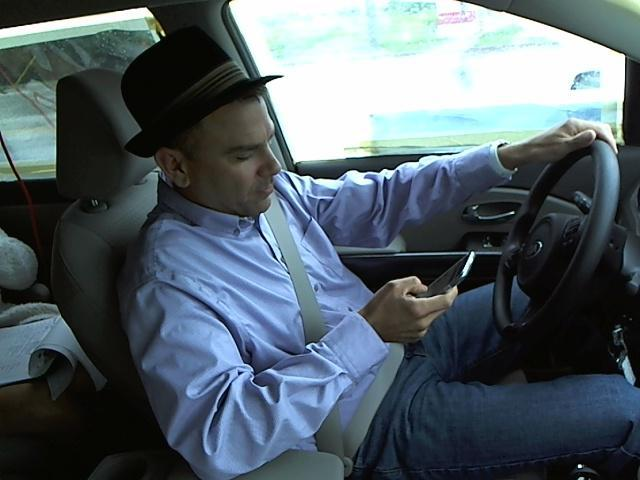PhoneUse: (411, 250, 483, 323)
